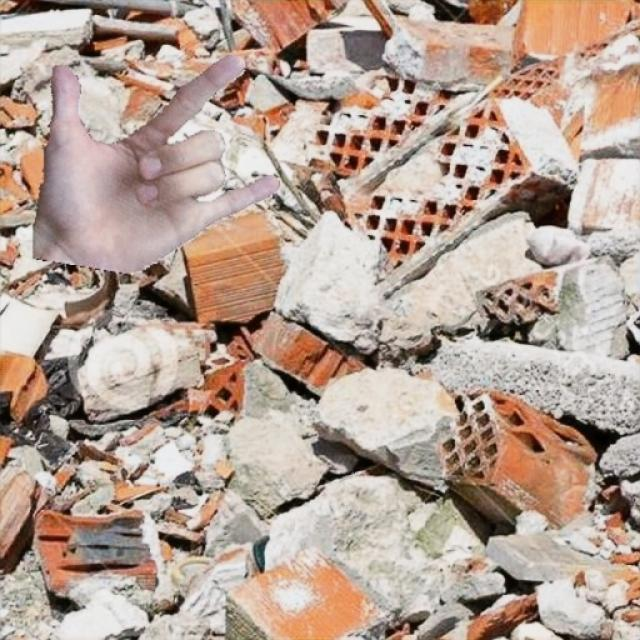Person in Rubble: (32, 55, 278, 274)
